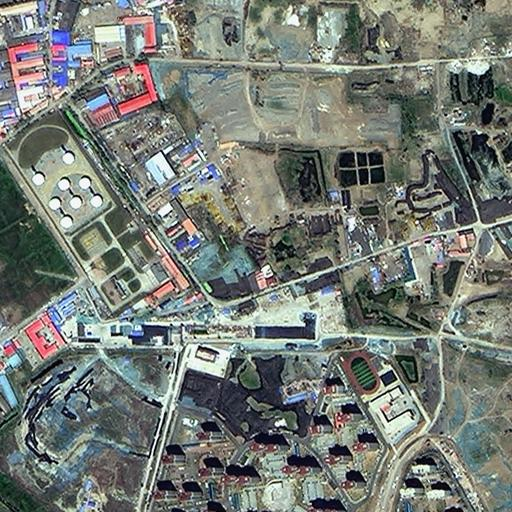school: (337, 347, 425, 451)
